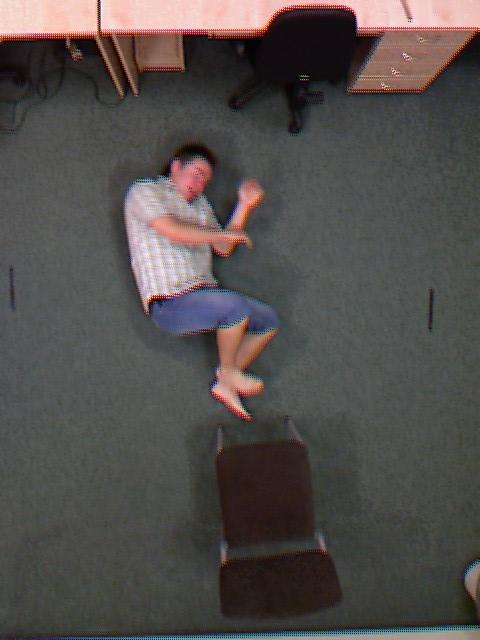fall: (96, 162, 311, 391)
